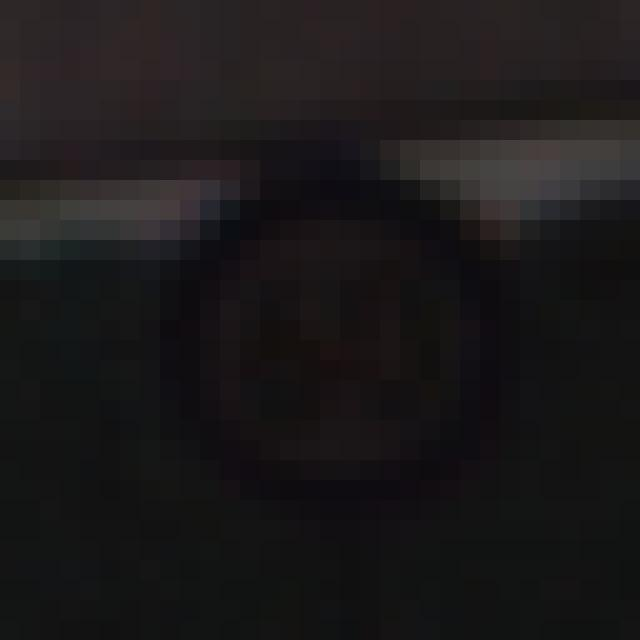SPEED-LIMIT-60: (162, 176, 513, 506)
